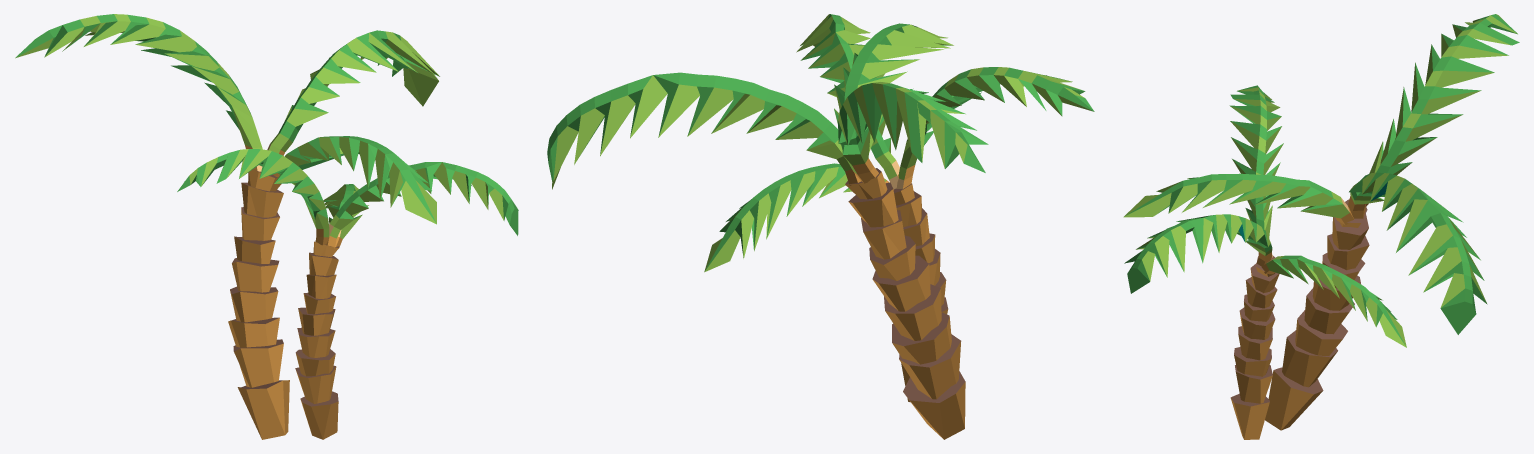
The model's file is small-palm-tree-2.glb.
3 renders of one model, left to right at view 1: azimuth 30°, elevation 25°; view 2: azimuth 150°, elevation 25°; view 3: azimuth 270°, elevation 25°, orthographic. The views are drawn at different scales.
Visible parts, largest first — view 1: group2120525022, group168381868; view 2: group2120525022, group168381868; view 3: group2120525022, group168381868.
Boxes of the visible parts, bbox=[...] form: group2120525022: bbox=[15, 14, 439, 439]; group168381868: bbox=[177, 149, 518, 439]; group2120525022: bbox=[547, 23, 988, 439]; group168381868: bbox=[704, 14, 1094, 402]; group2120525022: bbox=[1123, 14, 1519, 430]; group168381868: bbox=[1124, 85, 1406, 439].
Size of the model in its own units: 0.2615 by 0.2366 by 0.2301.
